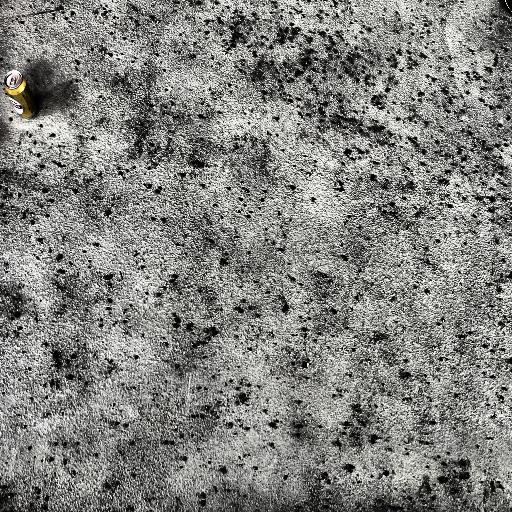A_LeCoq: (2, 65, 40, 124)
